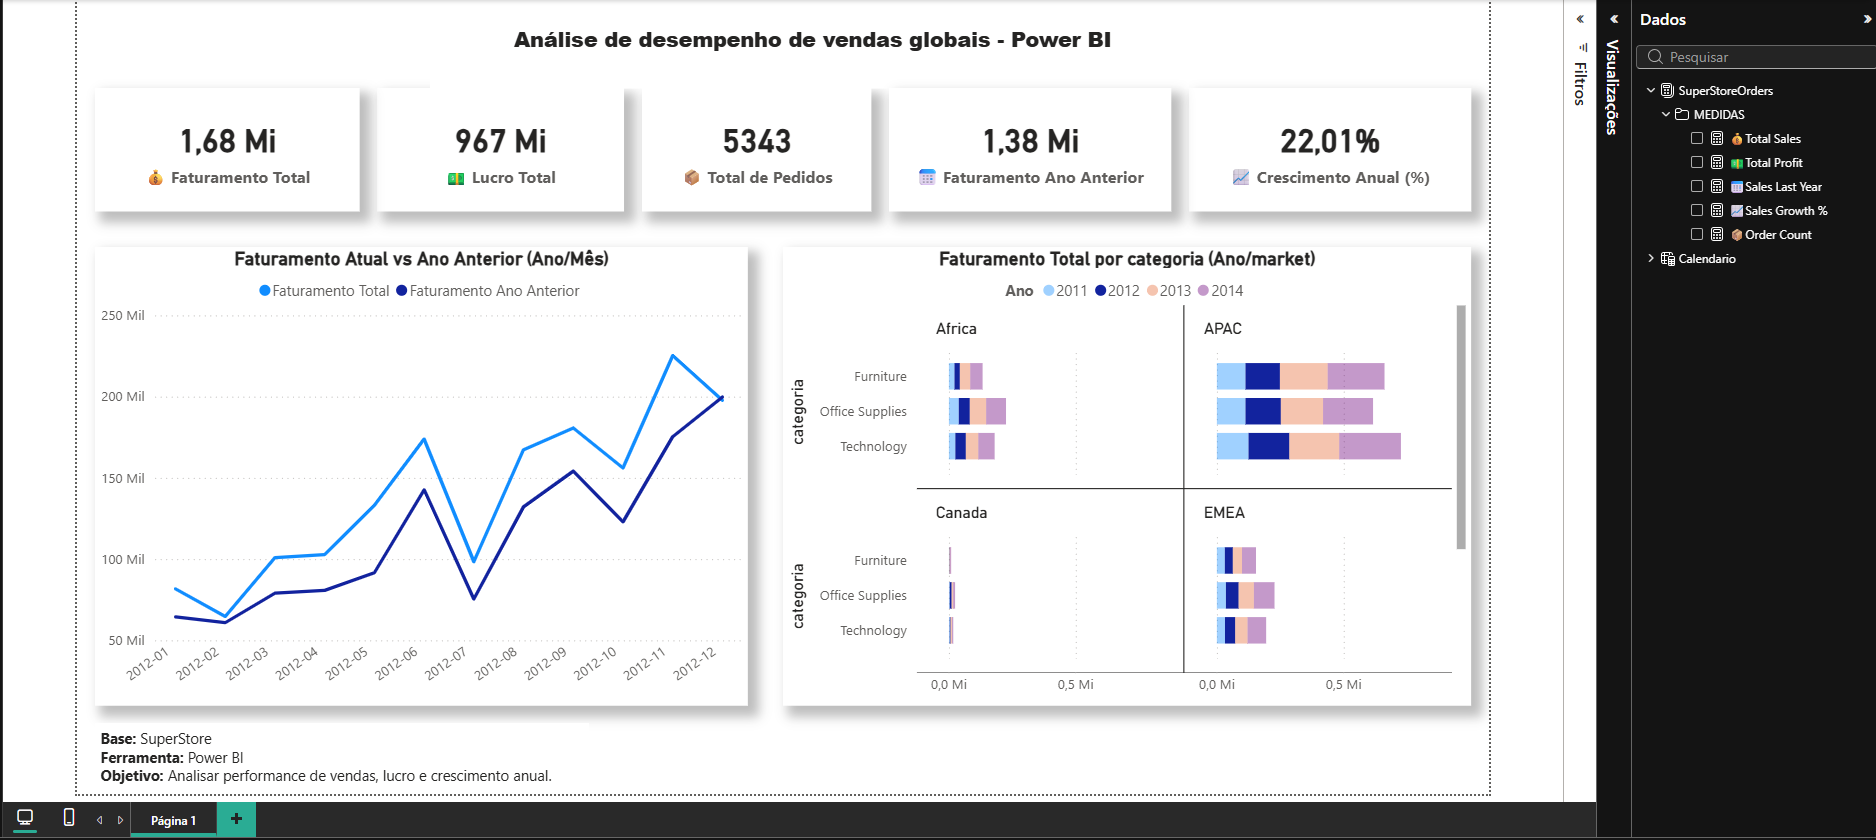

The dashboard page shown, as its layout file describes it:
{"tool":"powerbi","page":{"name":"Página 1","canvas":[1280,720],"ordinal":0},"visuals":[{"type":"card","fields":{"Values":["SuperStoreOrders.💵Total Profit"]},"box":[272,80,224,112],"z":1},{"type":"card","fields":{"Values":["SuperStoreOrders.💰Total Sales"]},"box":[16,80,240,112],"z":2},{"type":"card","fields":{"Values":["SuperStoreOrders.📦Order Count"]},"box":[512,80,208,112],"z":3},{"type":"card","fields":{"Values":["SuperStoreOrders.📈Sales Growth %"]},"box":[1008,80,256,112],"z":4},{"type":"lineChart","title":"Faturamento Atual vs Ano Anterior (Ano/Mês)","fields":{"Category":["Calendario.AnoMes"],"Y":["SuperStoreOrders.💰Total Sales","SuperStoreOrders.📅Sales Last Year"]},"box":[16,224,592,416],"z":5},{"type":"barChart","title":"Faturamento Total por categoria (Ano/market)","fields":{"Category":["SuperStoreOrders.category"],"Y":["SuperStoreOrders.💰Total Sales"],"Series":["Calendario.Ano"],"Rows":["SuperStoreOrders.market"]},"box":[640,224,624,416],"z":6},{"type":"textbox","box":[320,16,688,64],"z":7},{"type":"textbox","box":[16,656,448,64],"z":8},{"type":"card","fields":{"Values":["SuperStoreOrders.📅Sales Last Year"]},"box":[736,80,256,112],"z":9}]}

Visuals, with their boxes in screenshot pixels (x1, y1, x2, y2):
card - SuperStoreOrders.💵Total Profit: (left=408, top=37, right=675, bottom=170)
card - SuperStoreOrders.💰Total Sales: (left=102, top=37, right=389, bottom=170)
card - SuperStoreOrders.📦Order Count: (left=694, top=37, right=942, bottom=170)
card - SuperStoreOrders.📈Sales Growth %: (left=1286, top=37, right=1591, bottom=170)
"Faturamento Atual vs Ano Anterior (Ano/Mês)" lineChart: (left=102, top=209, right=809, bottom=705)
"Faturamento Total por categoria (Ano/market)" barChart: (left=847, top=209, right=1591, bottom=705)
textbox: (left=465, top=0, right=1286, bottom=37)
textbox: (left=102, top=724, right=637, bottom=801)
card - SuperStoreOrders.📅Sales Last Year: (left=961, top=37, right=1267, bottom=170)
